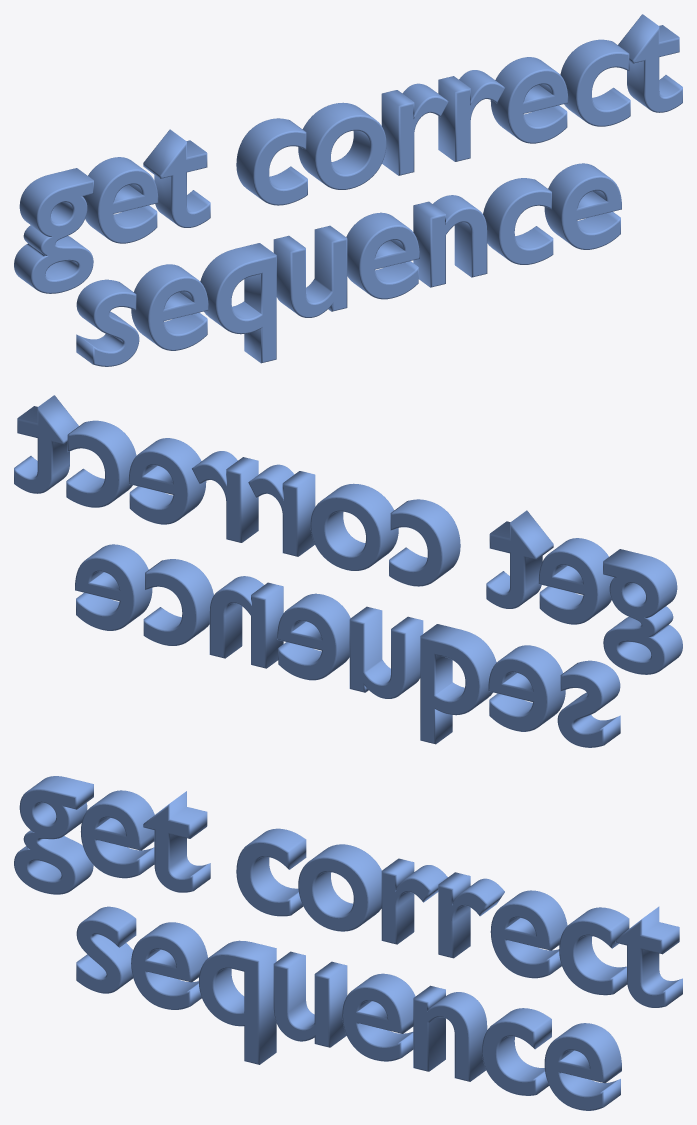
File: hint2.glb
3 renders of one model, top to bottom at view 1: azimuth 30°, elevation 25°; view 2: azimuth 150°, elevation 25°; view 3: azimuth 330°, elevation 25°, orthographic.
Parts seen in each view (by area): view 1: Text; view 2: Text; view 3: Text.
Boxes of the visible parts, <box> form: Text: <box>14,14,682,366</box>; Text: <box>14,395,682,747</box>; Text: <box>14,776,682,1110</box>.
Bounding box in the file's own units: 4.57 × 1.61 × 0.22.
